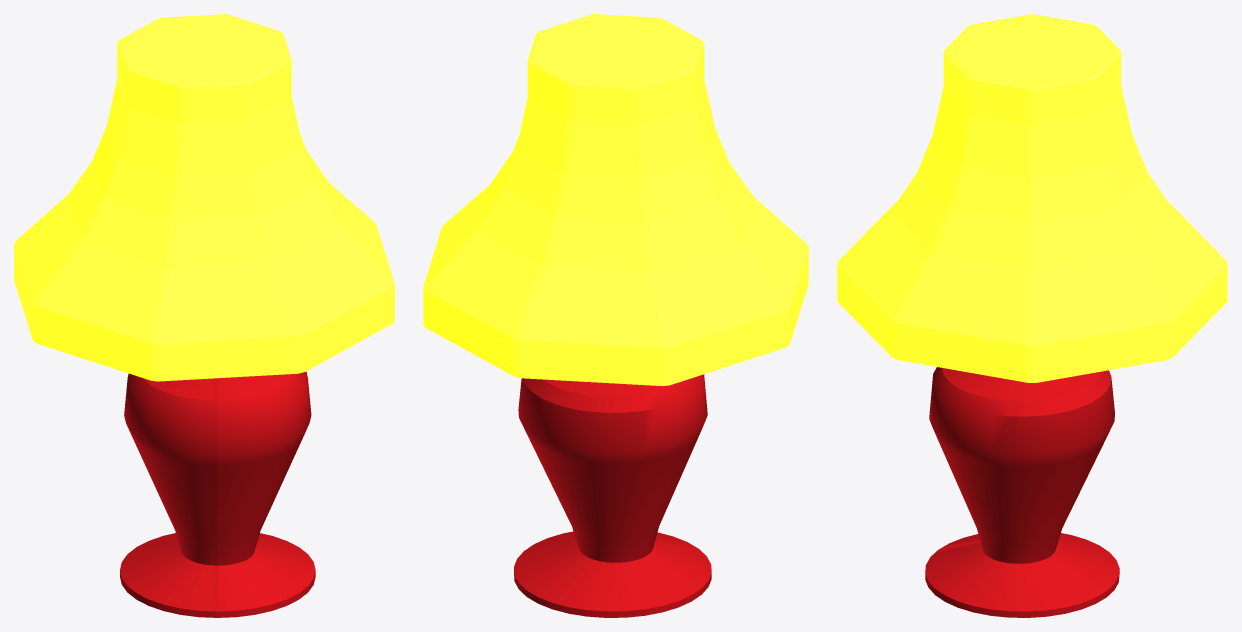
The model's file is лампа настольная.fbx.
3 renders of one model, left to right at view 1: azimuth 30°, elevation 25°; view 2: azimuth 150°, elevation 25°; view 3: azimuth 270°, elevation 25°, orthographic.
Visible parts, largest first — view 1: Окружность.004, Цилиндр.001; view 2: Окружность.004, Цилиндр.001; view 3: Окружность.004, Цилиндр.001.
Part boxes in pixels (x1,y1,x2,y2): Окружность.004: (14, 14, 394, 381); Цилиндр.001: (120, 371, 315, 617); Окружность.004: (423, 14, 808, 386); Цилиндр.001: (514, 374, 711, 617); Окружность.004: (837, 14, 1227, 382); Цилиндр.001: (925, 367, 1119, 617).
Bounding box in the file's own units: 123 × 182 × 123.
